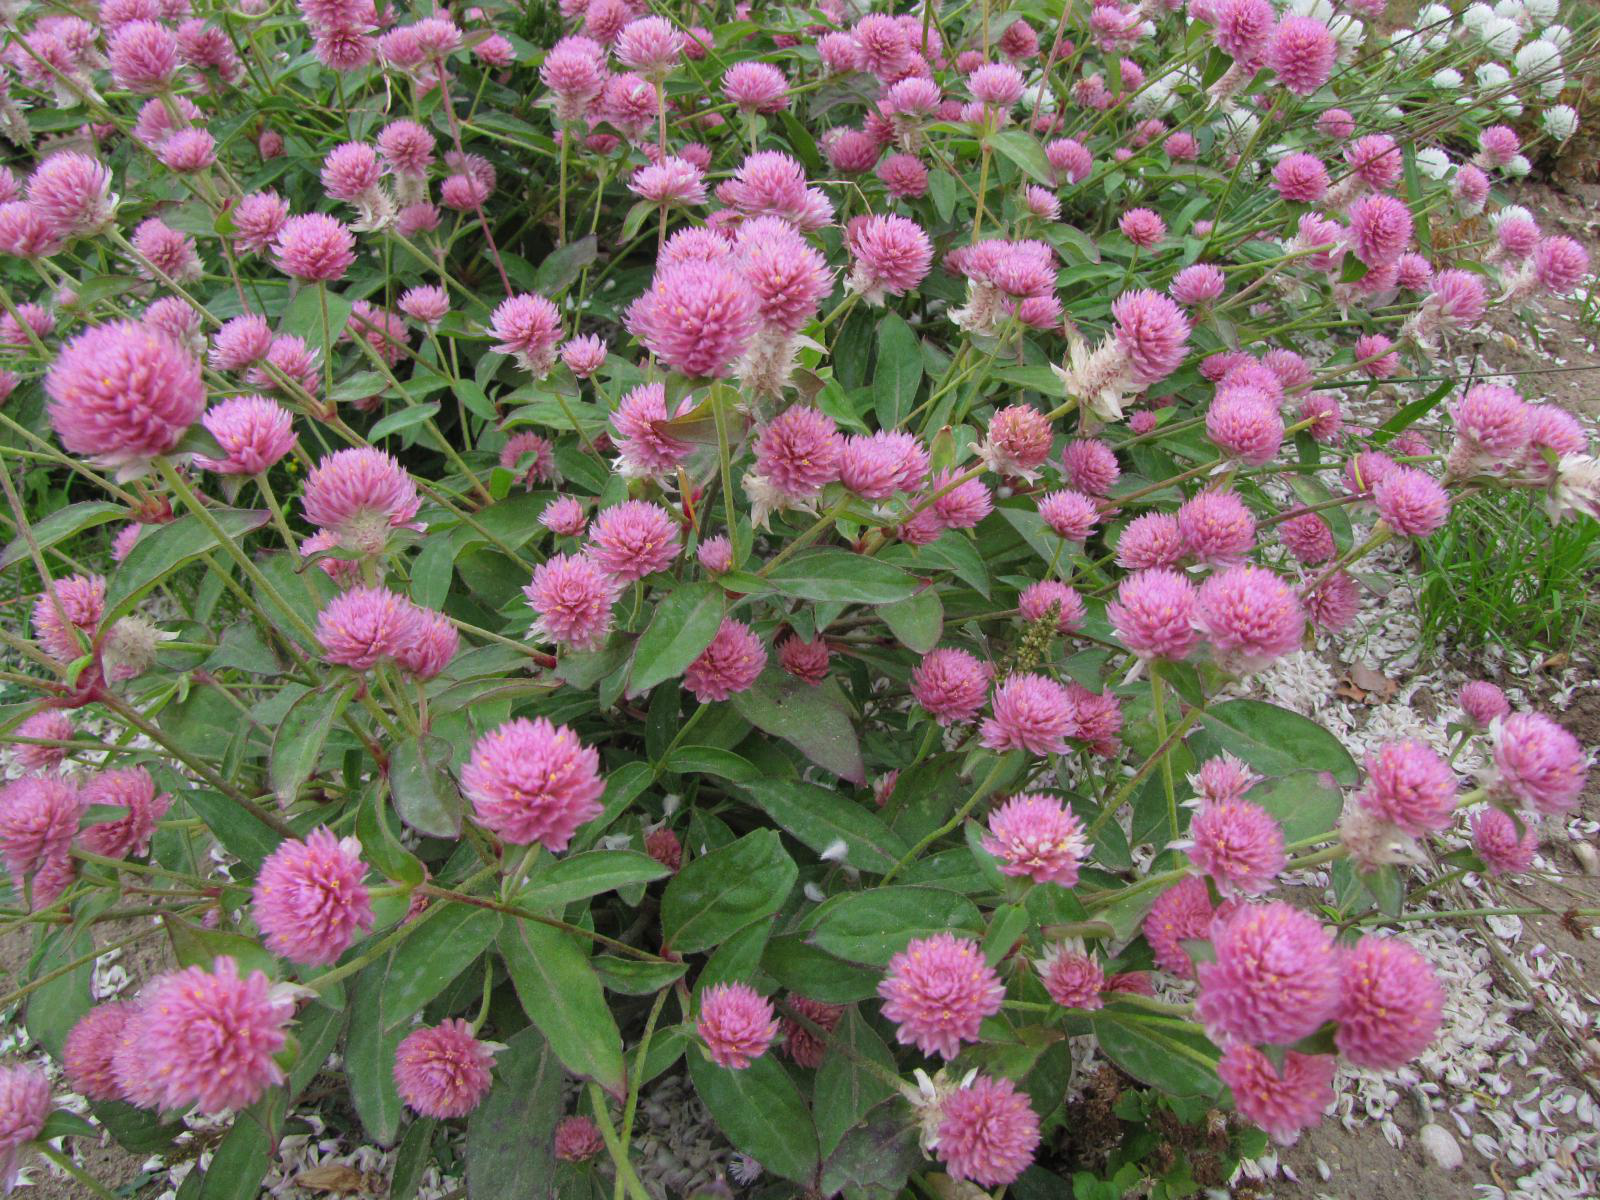clover: (21, 3, 1534, 1166)
